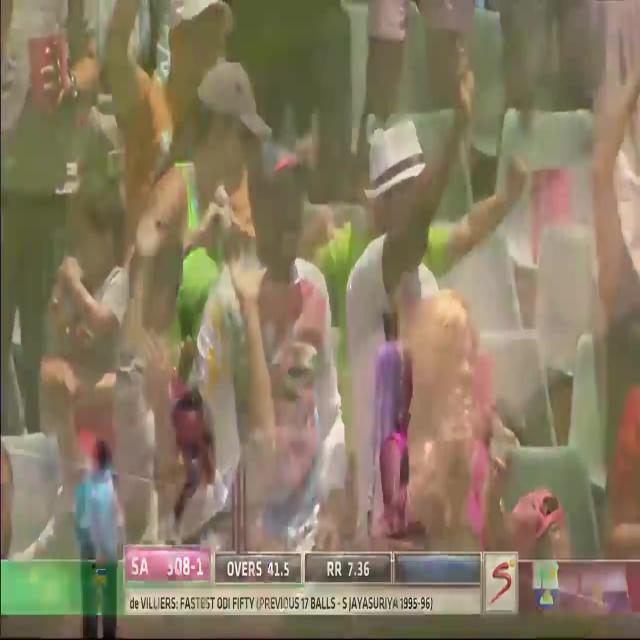Ball: (392, 1, 640, 570)
